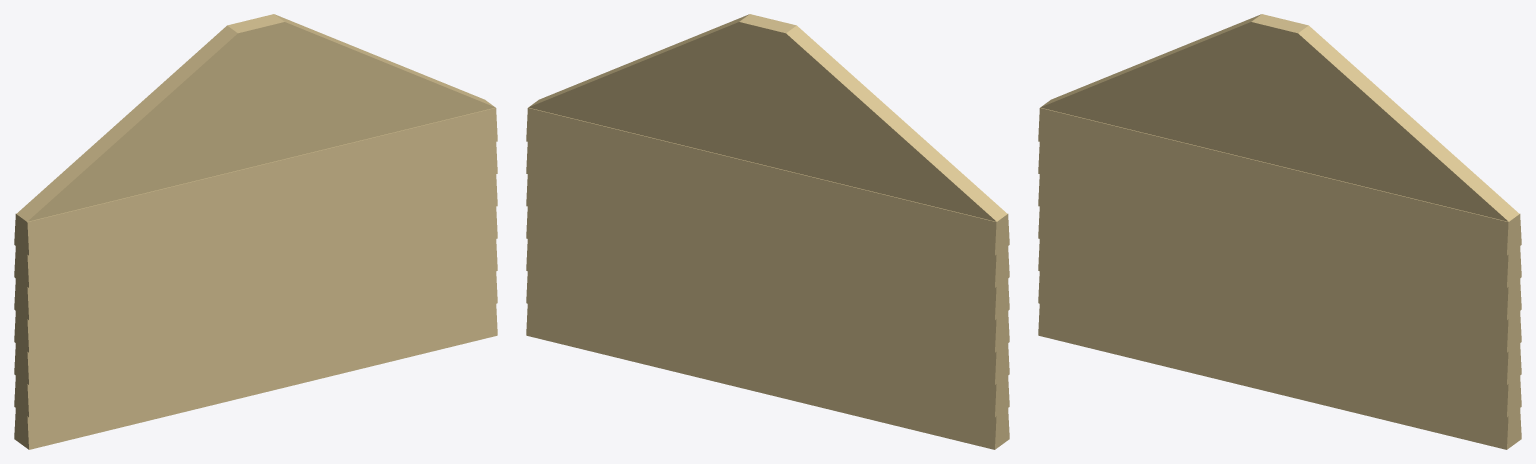
The model's file is GarageWall02_house4.fbx.
3 renders of one model, left to right at view 1: azimuth 30°, elevation 25°; view 2: azimuth 150°, elevation 25°; view 3: azimuth 330°, elevation 25°, orthographic.
Visible parts, largest first — view 1: GarageWall0\2_house4; view 2: GarageWall0\2_house4; view 3: GarageWall0\2_house4.
Boxes of the visible parts, x1,y1,x2,y2 form: GarageWall0\2_house4: [14, 14, 497, 449]; GarageWall0\2_house4: [526, 14, 1009, 449]; GarageWall0\2_house4: [1038, 14, 1521, 449].
Size of the model in its own units: 716 by 530 by 39.57.
